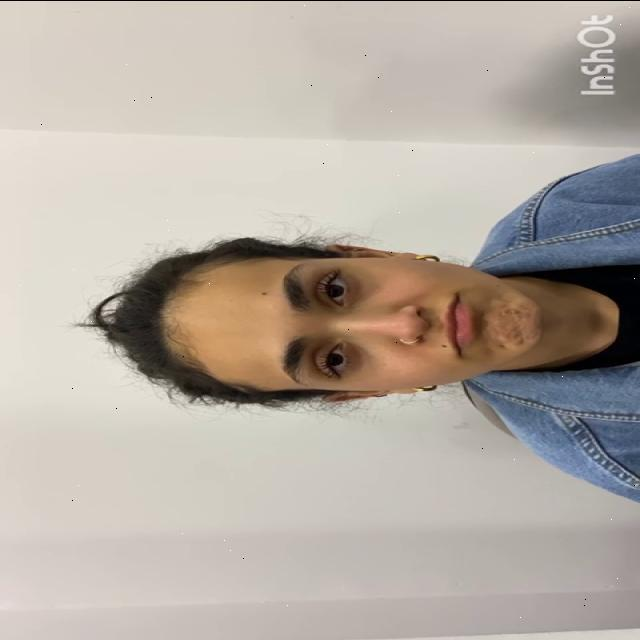natural: (182, 252, 537, 393)
